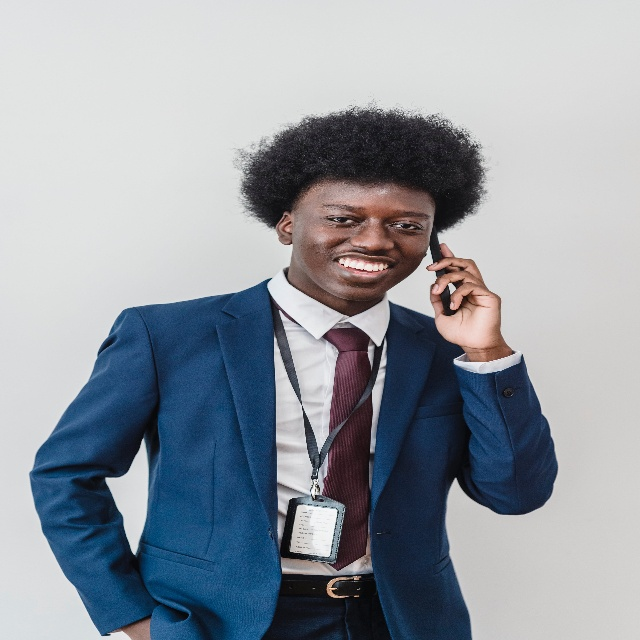Sin_guantes: (427, 242, 501, 352)
